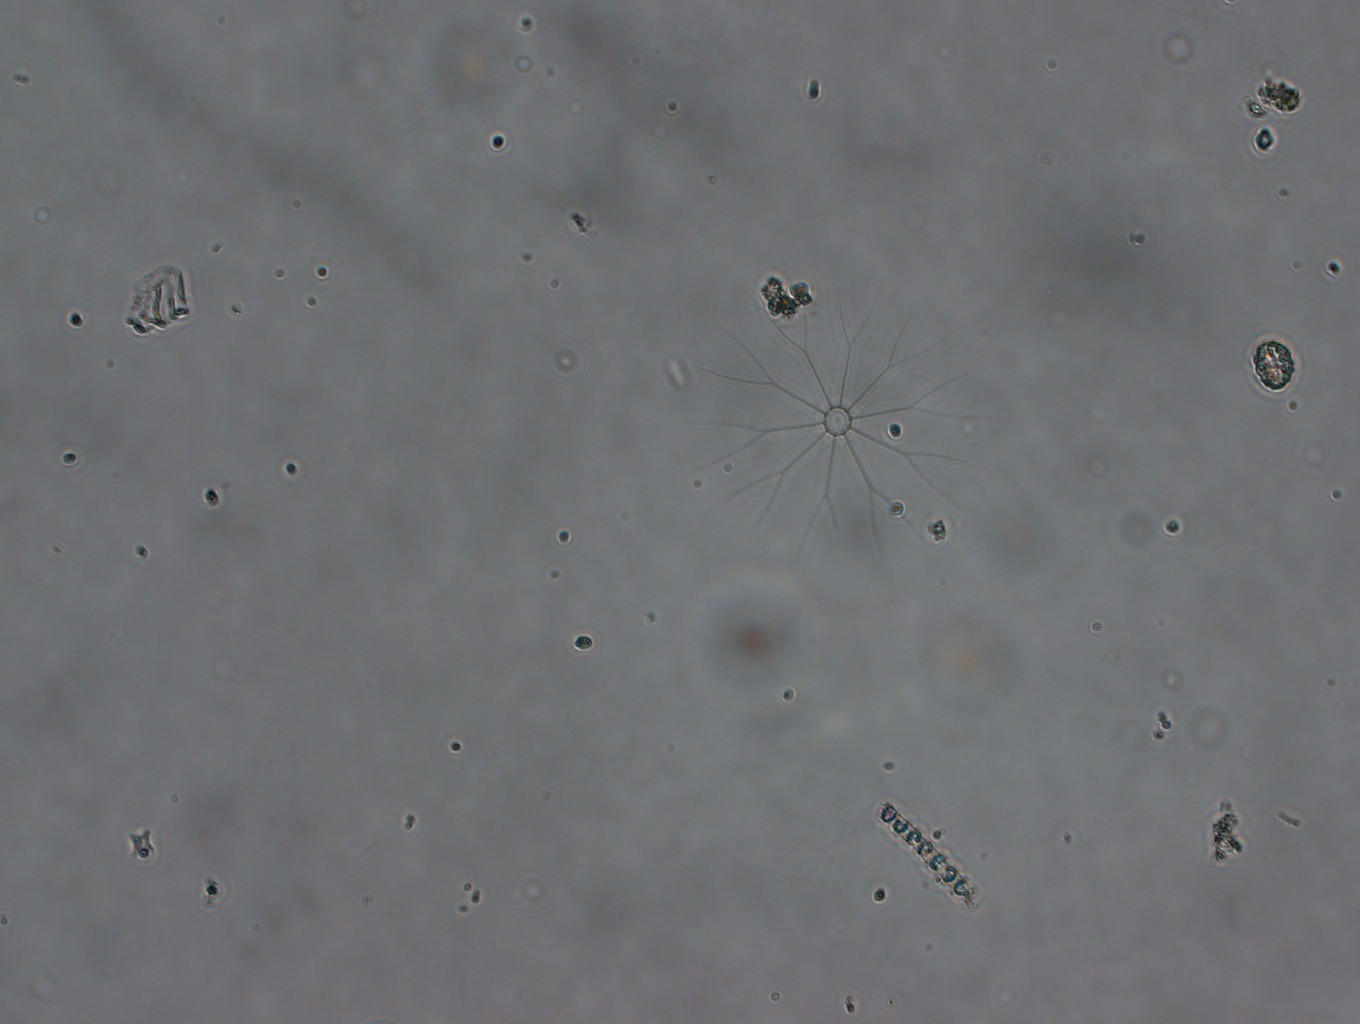bacteriastrum: (682, 273, 982, 550)
skeletonema: (874, 796, 980, 914)
